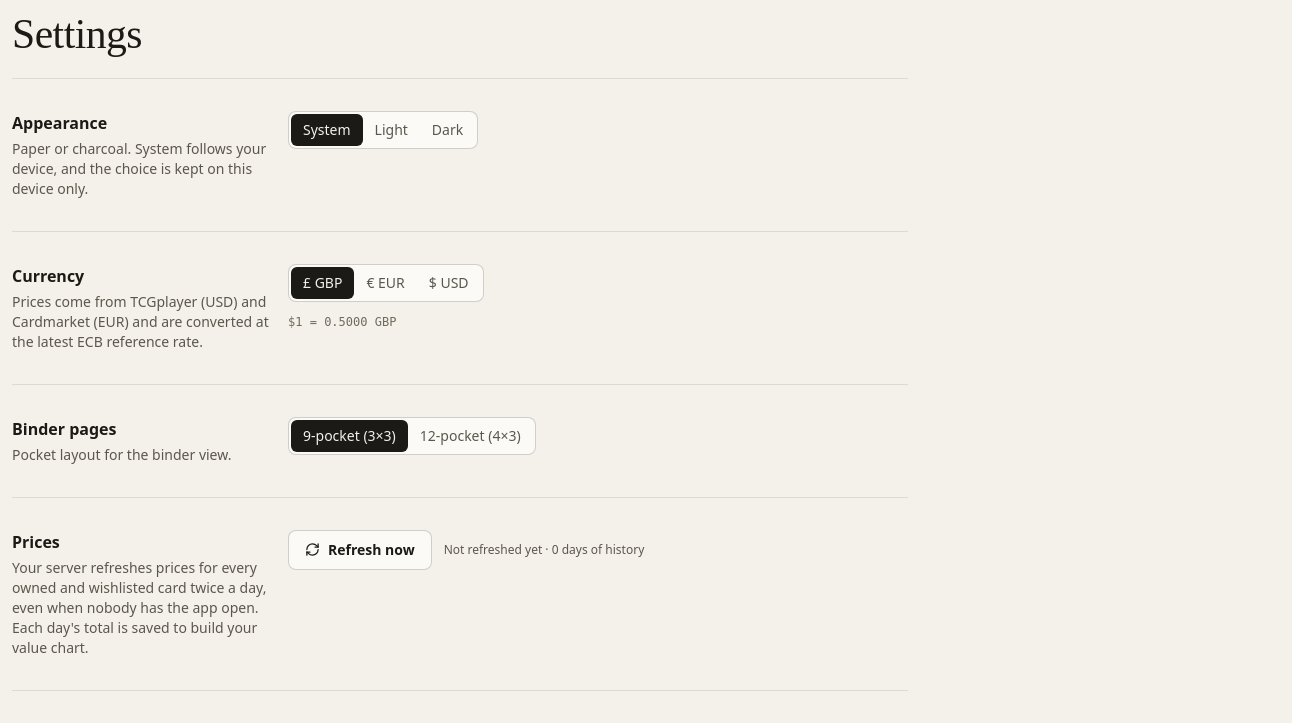
Test case: SettingsPage › switches currency and shows the conversion rate
The width and height of the screenshot is (1292, 723).
Expected: the heading "Settings" is shown, [12,12,142,58]
Expected: the text "$1 = 0.5000 GBP" is shown, [288,315,396,329]
Click the radio button labelled "€ EUR" at [386, 283], box [354,267,417,299]
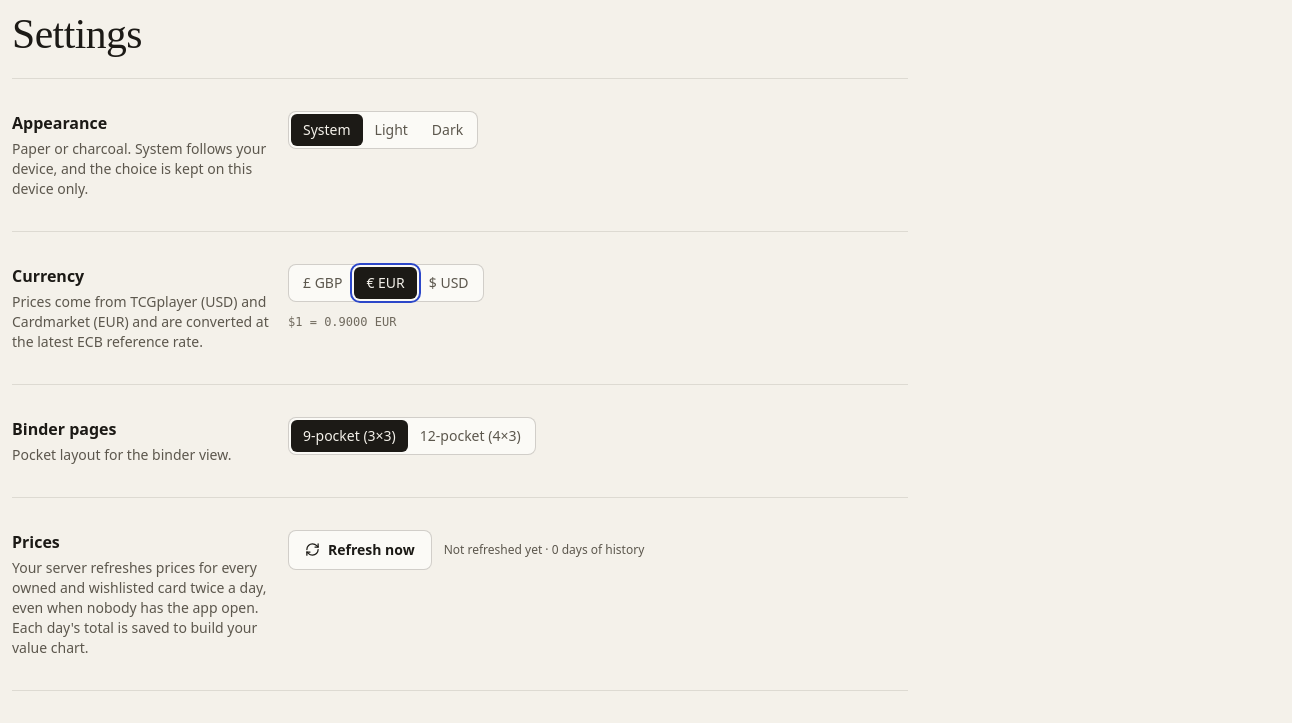
Now the text "$1 = 0.9000 EUR" is shown, box [288,315,396,329]
Click the radio button labelled "$ USD" at [449, 283], box [417,267,481,299]
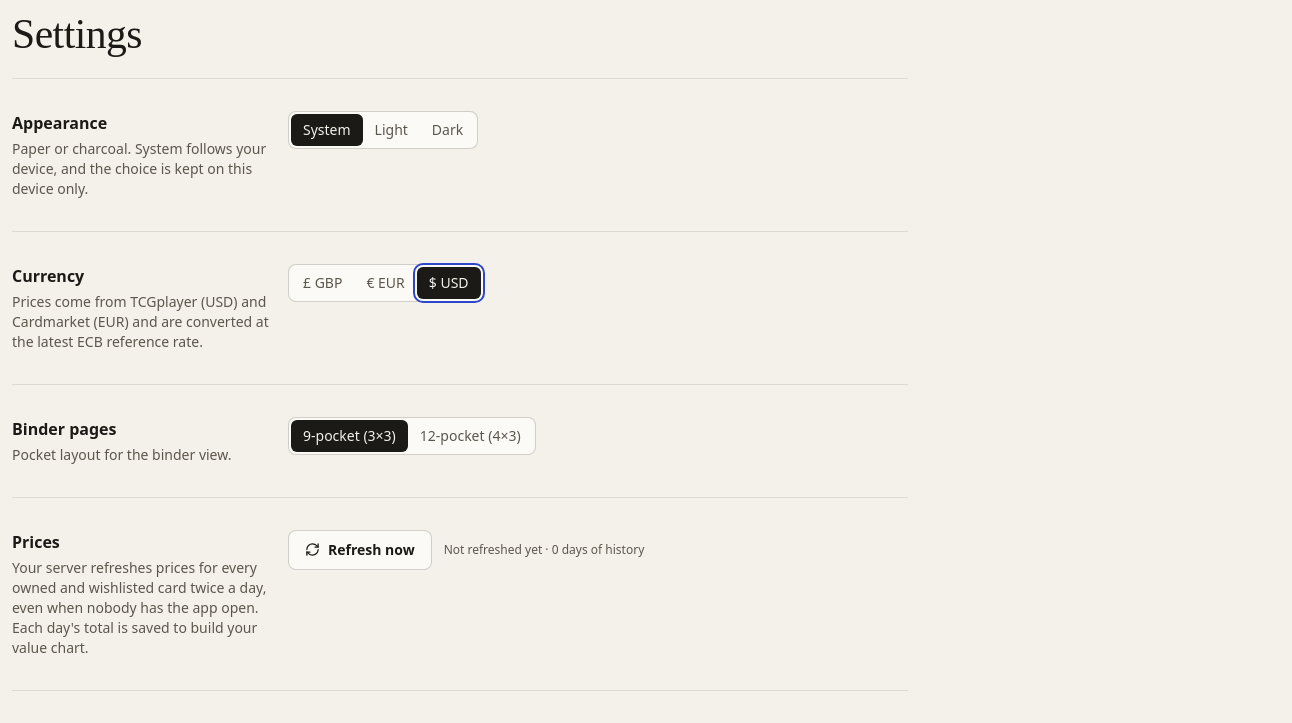
Now the text "$1 =" is gone
